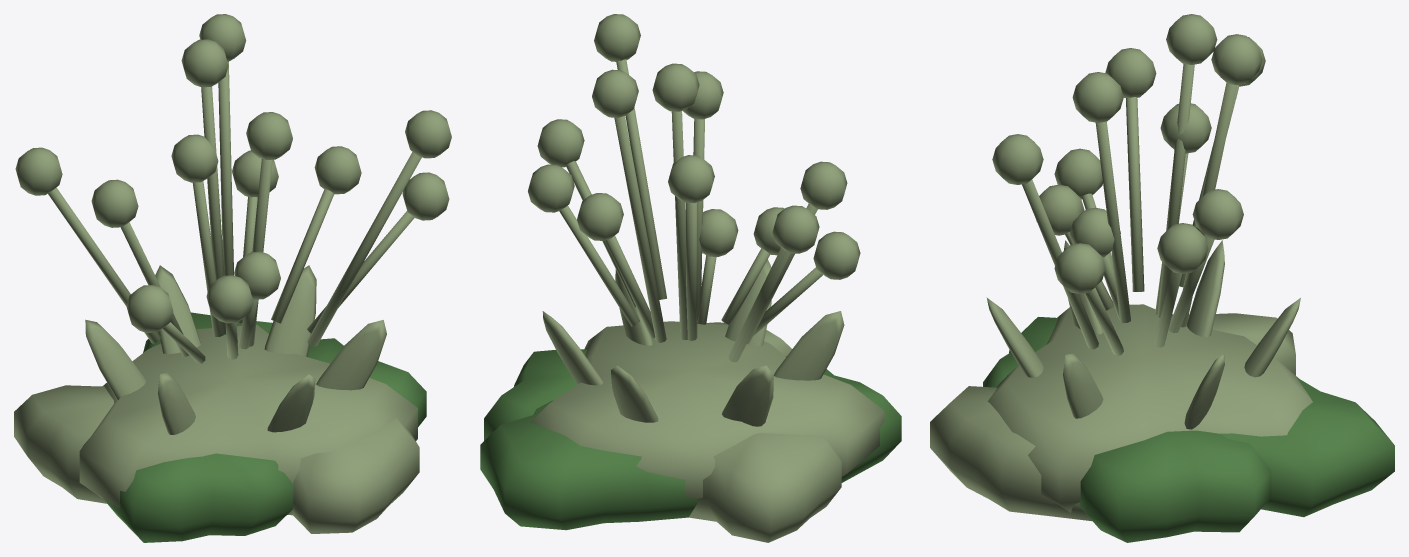
File: flowers_18.glb
3 renders of one model, left to right at view 1: azimuth 30°, elevation 25°; view 2: azimuth 150°, elevation 25°; view 3: azimuth 270°, elevation 25°, orthographic. The views are drawn at different scales.
Parts seen in each view (by area): view 1: Tint, Ground foliage.078, Ground foliage.081, Ground foliage.080, Ground foliage.082, Fine leaf.001, Fine leaf.002, Fine leaf.004, Ground foliage.079, Fine leaf, Fine leaf.003, Fine leaf.005 (+1 smaller); view 2: Tint, Ground foliage.078, Ground foliage.083, Ground foliage.082, Ground foliage.079, Fine leaf.005, Fine leaf.004, Ground foliage.081, Fine leaf.002, Fine leaf.003, Fine leaf, Fine leaf.001; view 3: Tint, Ground foliage.078, Ground foliage.079, Ground foliage.083, Ground foliage.080, Fine leaf.004, Ground foliage.082, Fine leaf.001, Fine leaf, Fine leaf.003, Ground foliage.081, Fine leaf.002.
Part boxes in pixels (x1,y1,x2,y2): Tint: (15, 14, 451, 363); Ground foliage.078: (79, 325, 417, 514); Ground foliage.081: (103, 453, 292, 542); Ground foliage.080: (289, 417, 419, 533); Ground foliage.082: (14, 385, 114, 503); Fine leaf.001: (316, 320, 386, 390); Fine leaf.002: (264, 265, 316, 356); Fine leaf.004: (85, 319, 146, 400); Ground foliage.079: (307, 338, 426, 426); Fine leaf: (267, 374, 315, 432); Fine leaf.003: (155, 265, 200, 354); Fine leaf.005: (158, 372, 195, 434); Tint: (528, 14, 860, 362); Ground foliage.078: (530, 321, 884, 498); Ground foliage.083: (480, 400, 697, 530); Ground foliage.082: (689, 433, 841, 542); Ground foliage.079: (484, 349, 586, 440); Fine leaf.005: (773, 311, 844, 380); Fine leaf.004: (722, 365, 773, 426); Ground foliage.081: (786, 356, 901, 482); Fine leaf.002: (542, 311, 603, 385); Fine leaf.003: (610, 365, 658, 422); Fine leaf: (725, 259, 771, 346); Fine leaf.001: (615, 269, 652, 345); Tint: (992, 14, 1265, 355); Ground foliage.078: (987, 304, 1312, 512); Ground foliage.079: (1079, 430, 1271, 542); Ground foliage.083: (1220, 378, 1394, 517); Ground foliage.080: (930, 386, 1091, 521); Fine leaf.004: (1187, 240, 1224, 337); Ground foliage.082: (1172, 313, 1295, 375); Fine leaf.001: (1063, 353, 1103, 418); Fine leaf: (986, 297, 1043, 377); Fine leaf.003: (1244, 298, 1300, 377); Ground foliage.081: (983, 317, 1058, 387); Fine leaf.002: (1184, 355, 1224, 429).
Bounding box in the file's own units: 0.3929 × 0.45 × 0.425.
